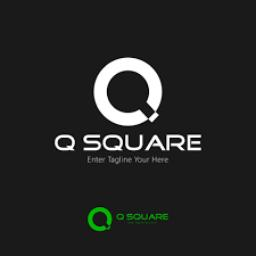q: (50, 128, 78, 154)
